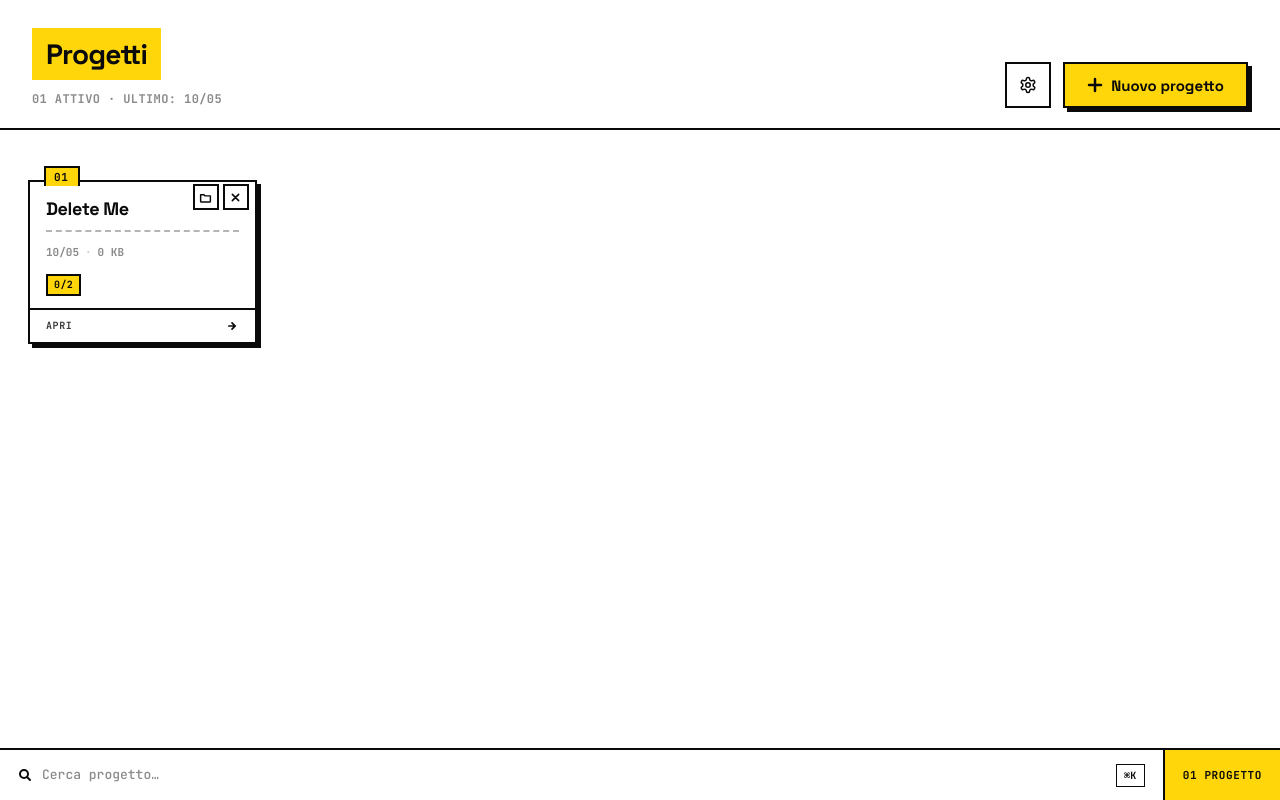
Scenario: ProjectsPage › deletes a project after confirmation
Expected: the heading "Delete Me" is shown, [46,197,129,220]
Click the button named "Elimina Delete Me".
click(236, 197)  # box [223,184,249,210]
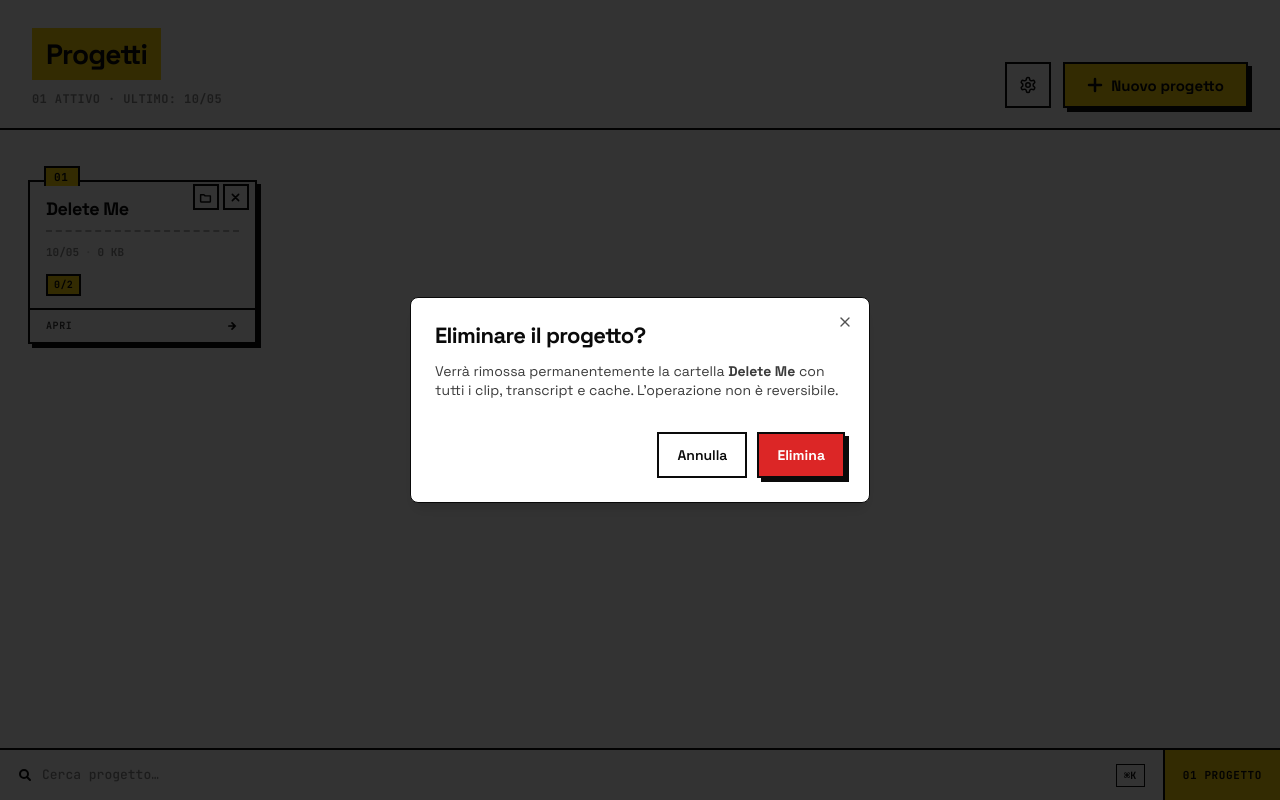
Click the button "Elimina".
click(801, 455)  # box [757,432,845,478]
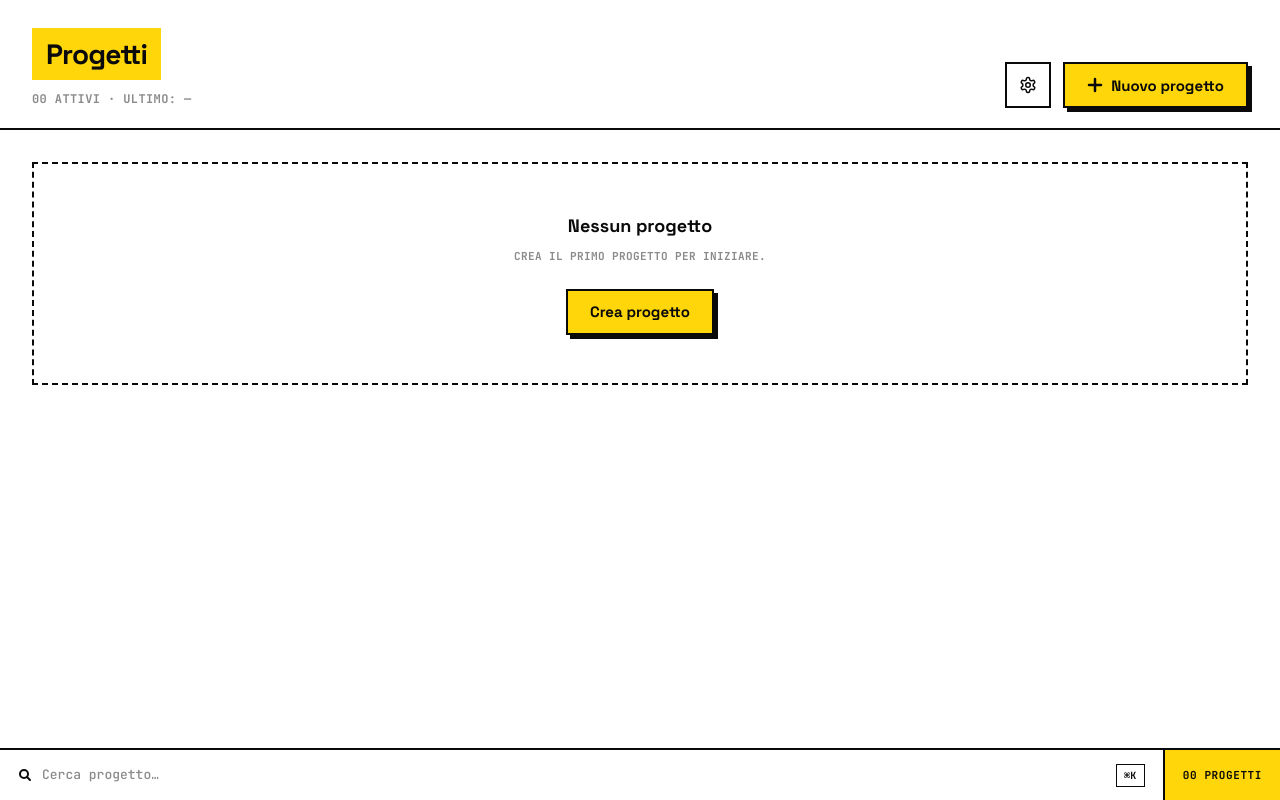
Expected: the button "Delete Me" is gone
